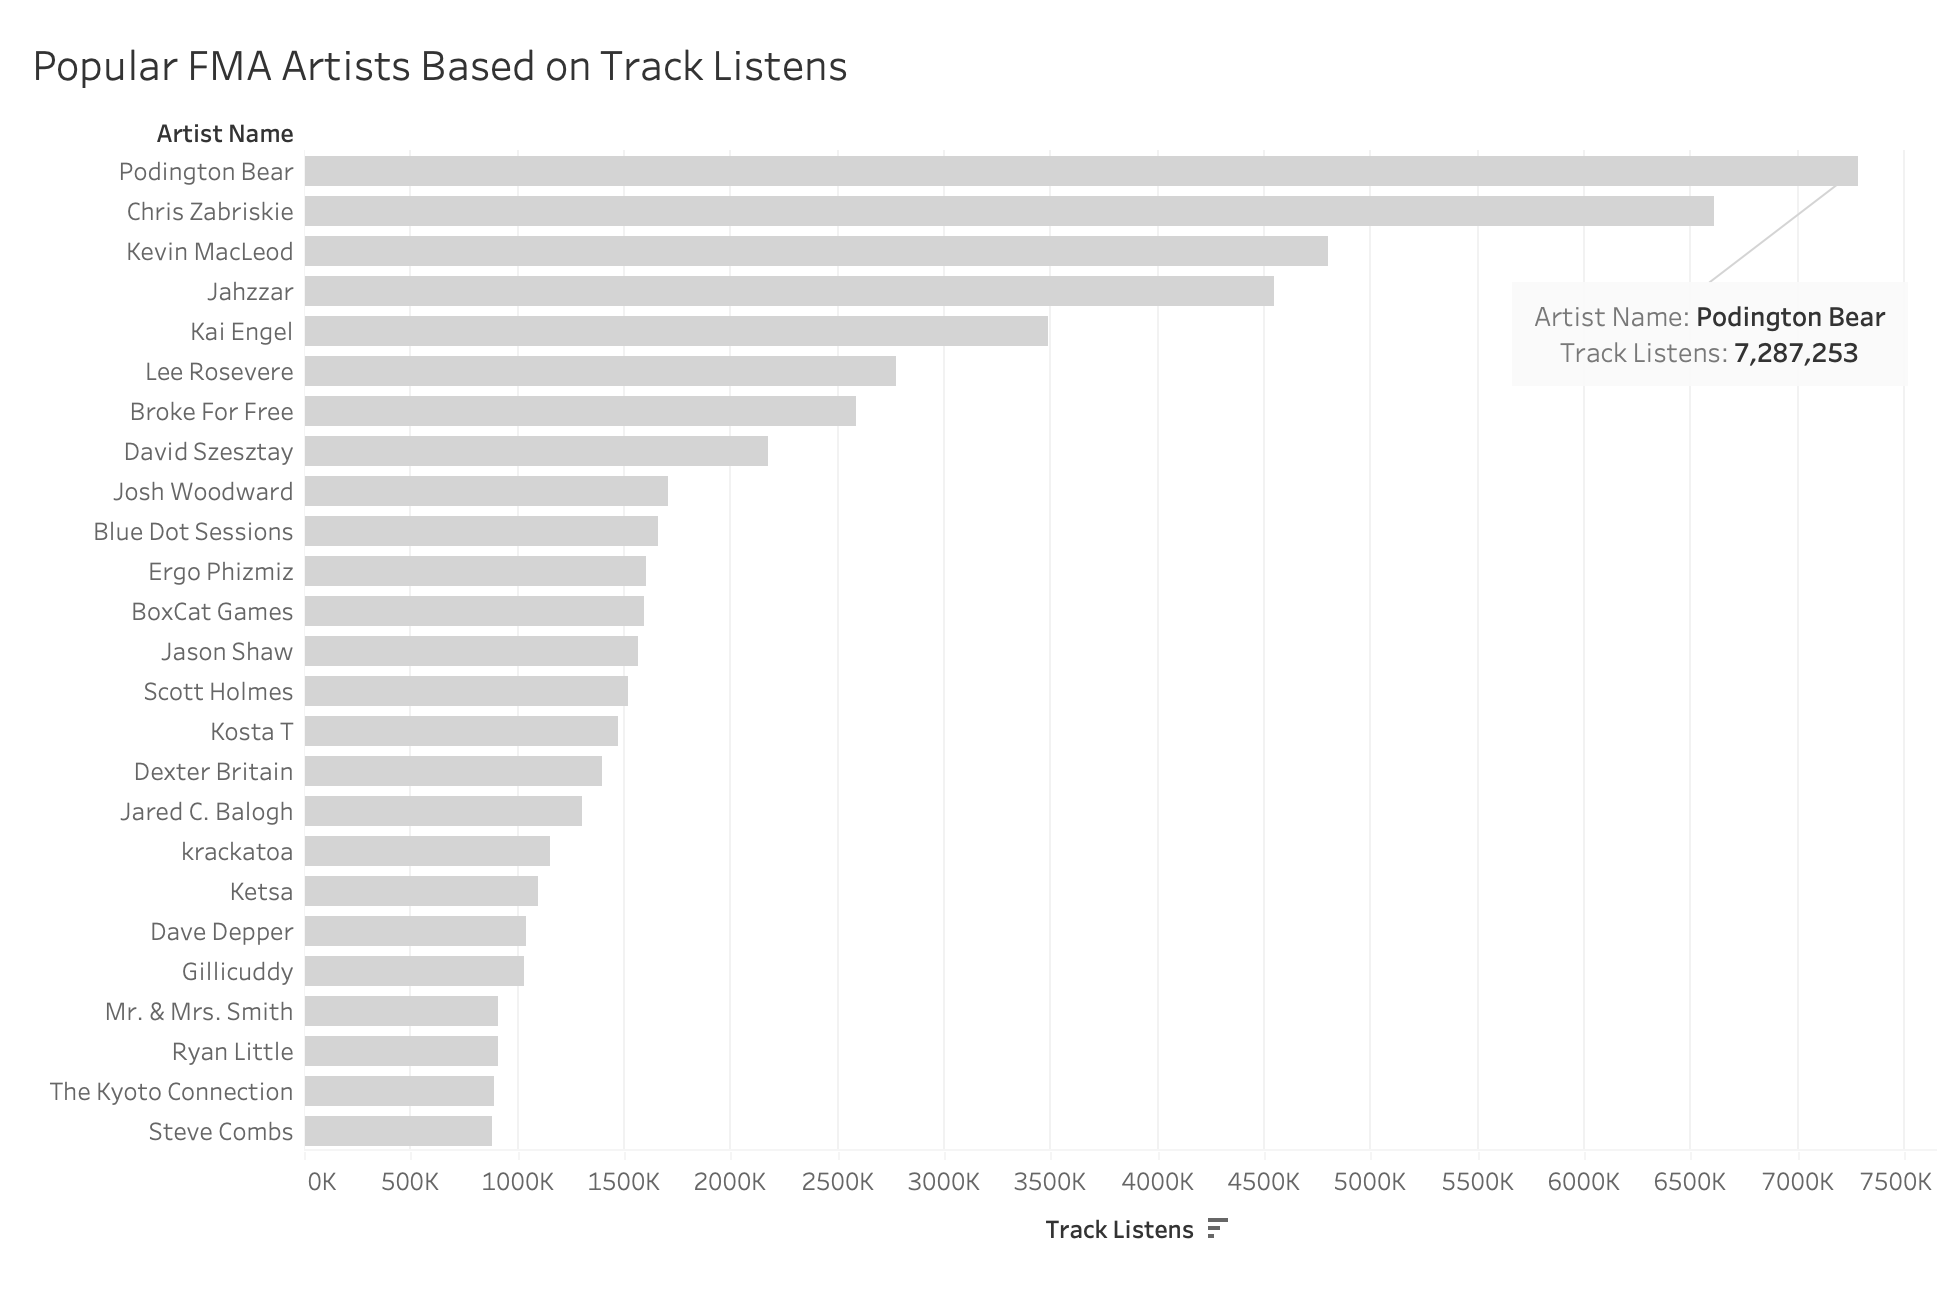

Layout of this report page (visuals, bound fields, positions):
{"tool":"tableau","page":{"name":"Dashboard 1 (2)","canvas":[1600,900],"ordinal":1},"visuals":[{"type":"worksheet","title":"Sheet 1","mark":"Automatic","box":[8,8,1584,884]}]}

Visuals, with their boxes on the page's 1600x900 design canvas (x1, y1, x2, y2). These are canvas units, not pixel positions in the 1960x1300 screenshot, which may show the page scaled, cropped or inside an application window:
"Sheet 1" worksheet: box=[8, 8, 1592, 892]
